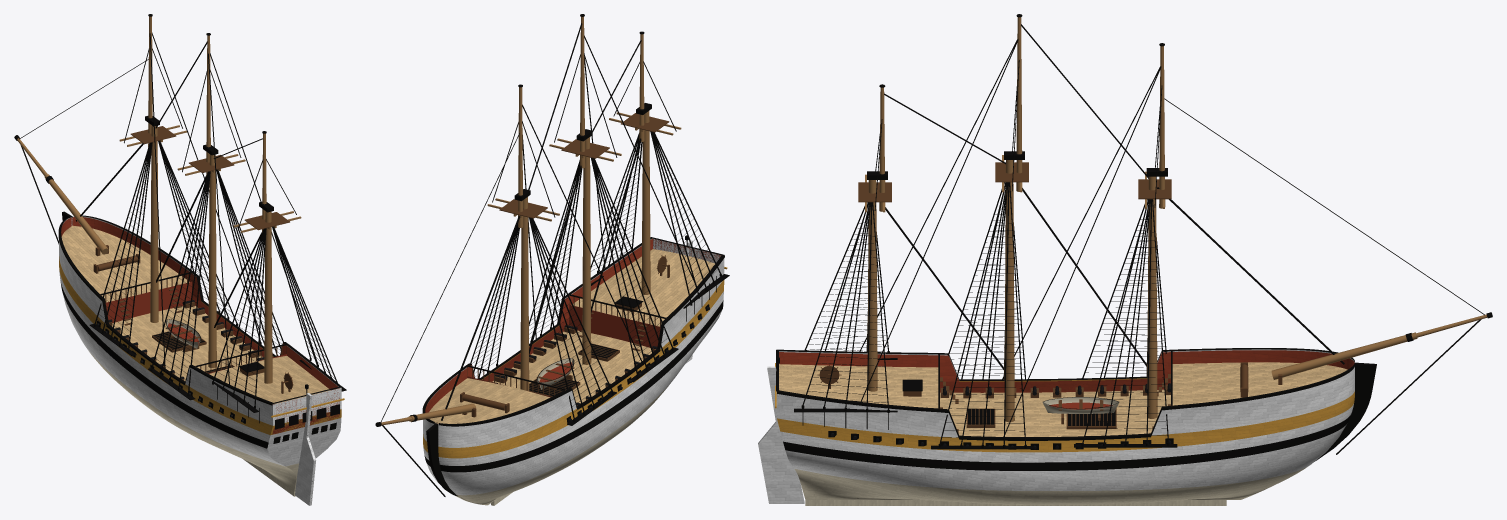
Rendered from east_indiaman.glb.
3 views of the same model, side by side, from view 1: azimuth 30°, elevation 25°; view 2: azimuth 150°, elevation 25°; view 3: azimuth 270°, elevation 25° (orthographic). The views are drawn at different scales.
Visible parts, largest first — view 1: hull; view 2: hull; view 3: hull.
Part boxes in pixels (box(x1,y1,x2,y2)): hull: box(14, 14, 346, 505); hull: box(375, 14, 729, 505); hull: box(758, 14, 1492, 505).
Size of the model in its own units: 10.98 by 37.86 by 51.46.
9 materials, 5 textured.
